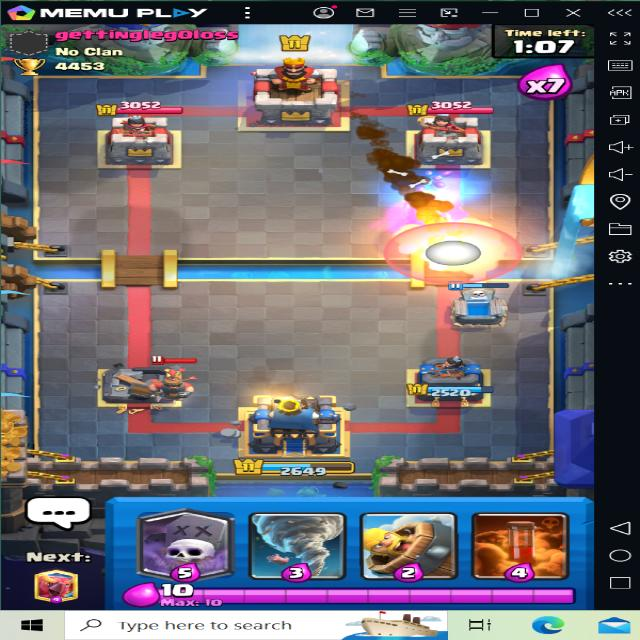royal-recruits: (140, 362, 198, 417)
